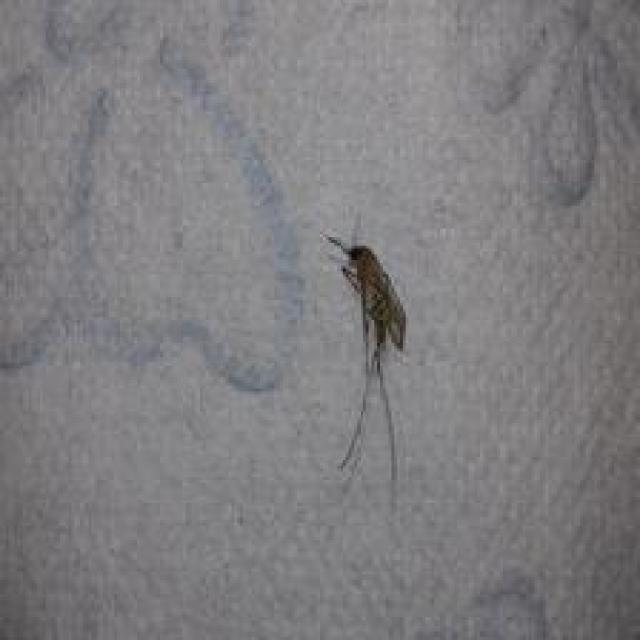Culex: (321, 227, 410, 510)
